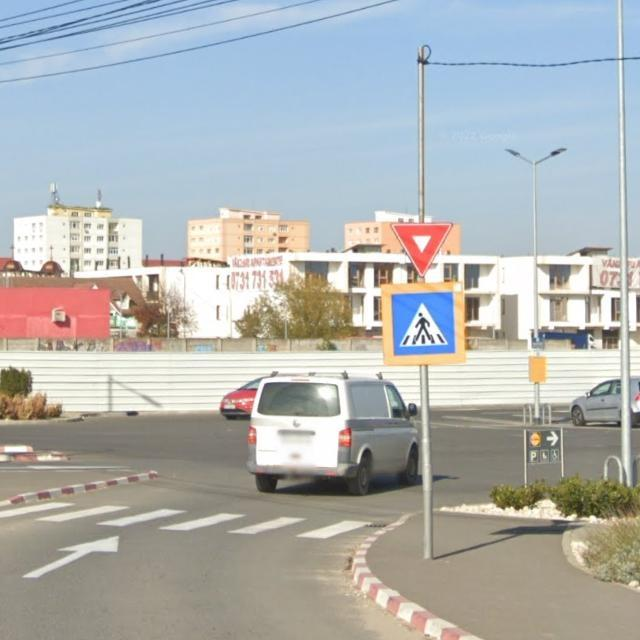info_crosswalk: (381, 279, 466, 366)
prio_give_way: (392, 222, 454, 278)
